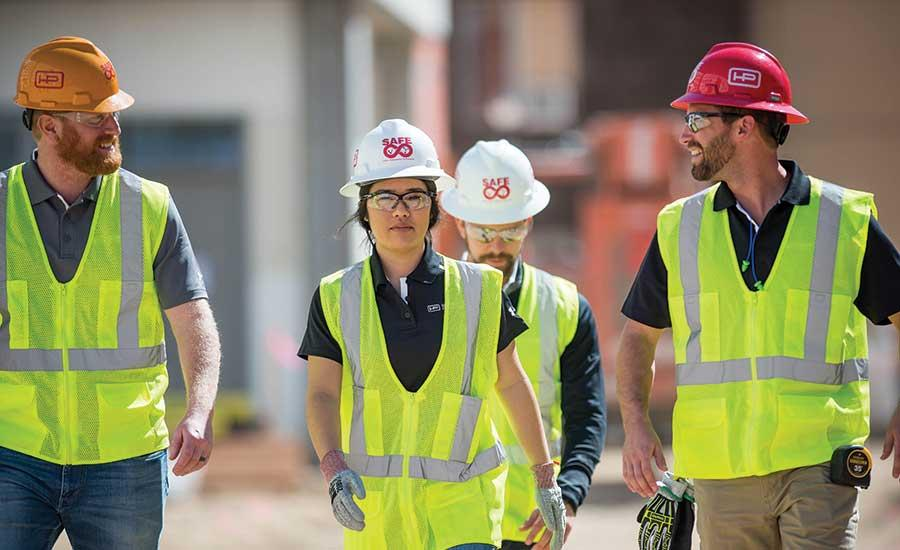helmet: (671, 42, 807, 122), (444, 139, 553, 229), (14, 38, 130, 115), (345, 117, 454, 197)
